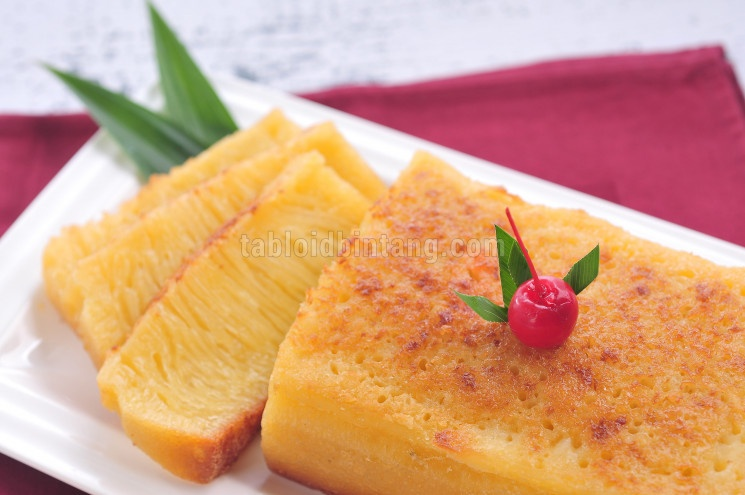bika_ambon: (89, 152, 380, 481)
